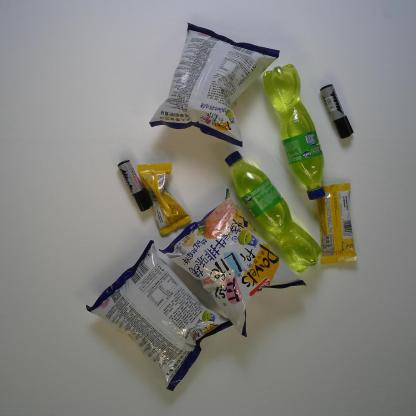Chocolate: (136, 162, 192, 238), (313, 182, 358, 268)
Drink: (222, 150, 322, 273), (261, 61, 327, 202)
Puffed Food: (85, 239, 235, 394), (158, 187, 308, 337), (148, 20, 280, 148)
Stationery: (318, 82, 354, 141), (118, 157, 152, 212)
